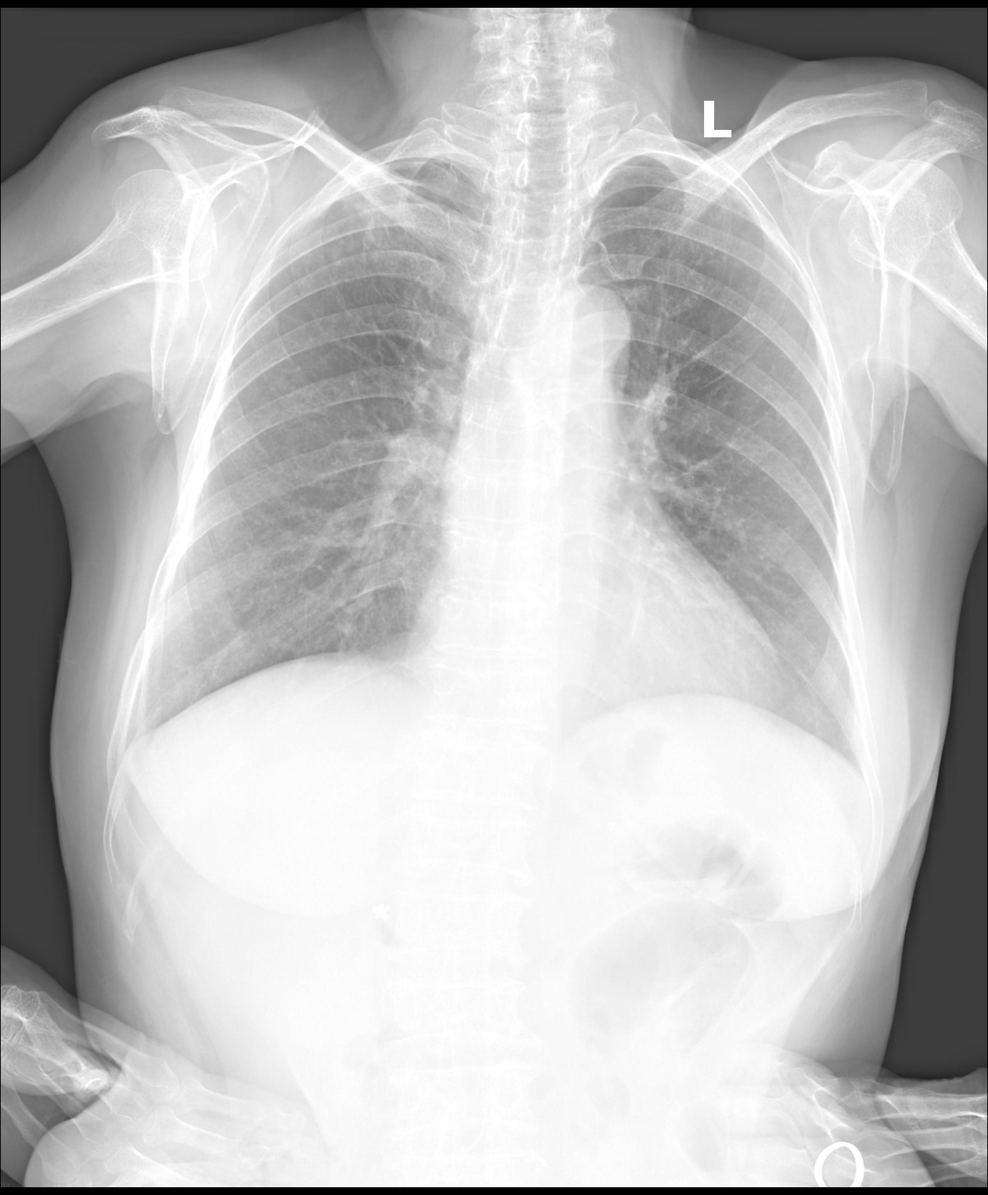Aortic enlargement: (535, 284, 629, 356)
Cardiomegaly: (397, 595, 783, 725)
Pulmonary fibrosis: (351, 177, 391, 251)
